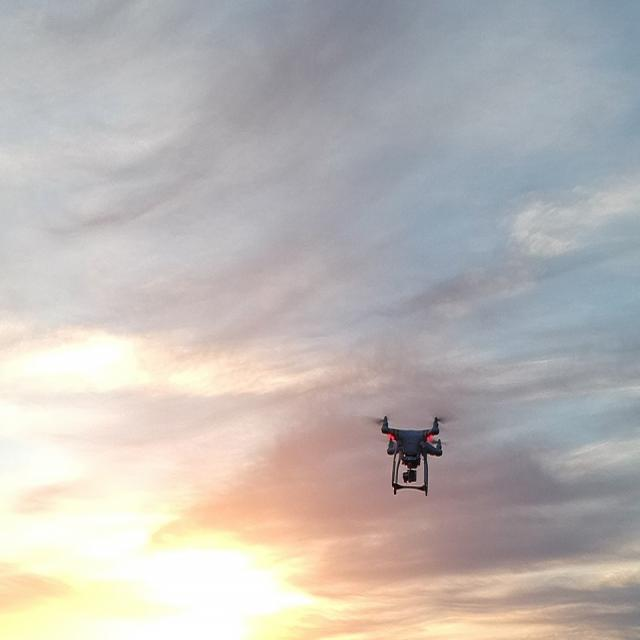drone: (372, 382, 458, 515)
